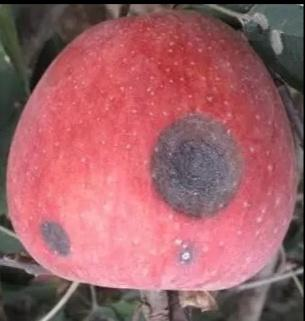rotten apple: (5, 9, 302, 293)
